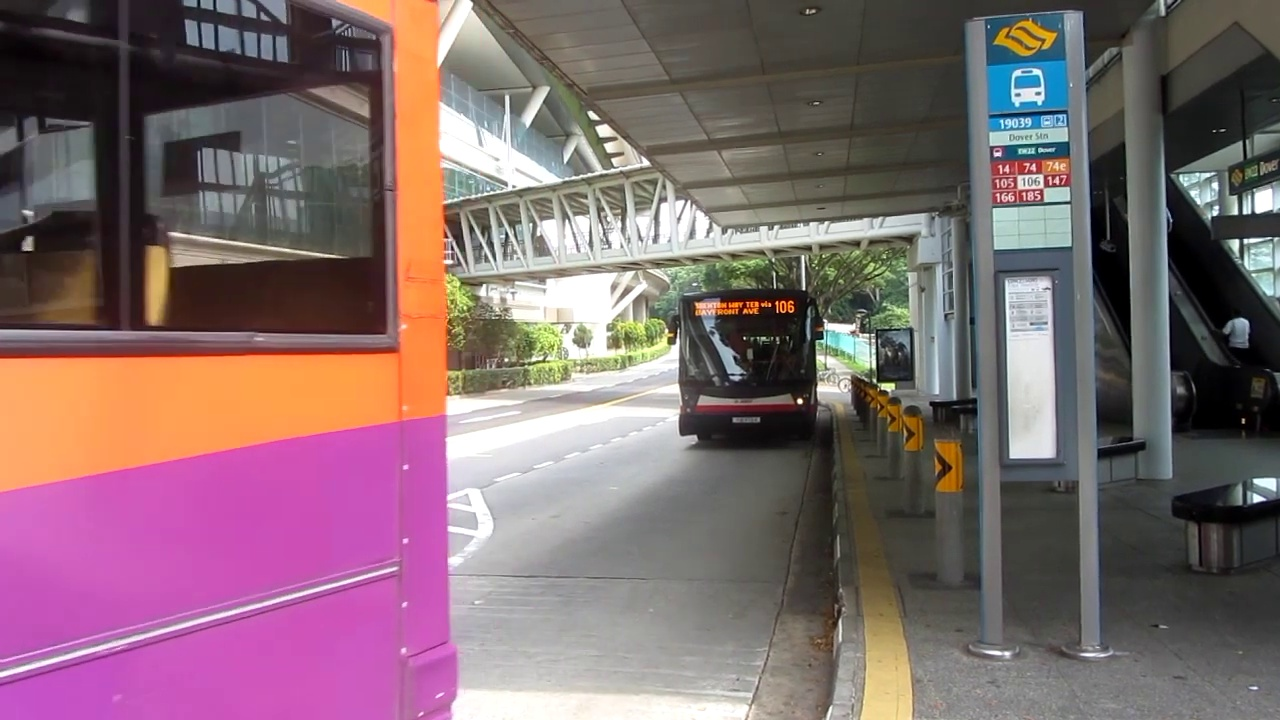bus panel: (690, 298, 799, 317)
